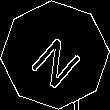N_NE: (23, 23, 87, 87)
